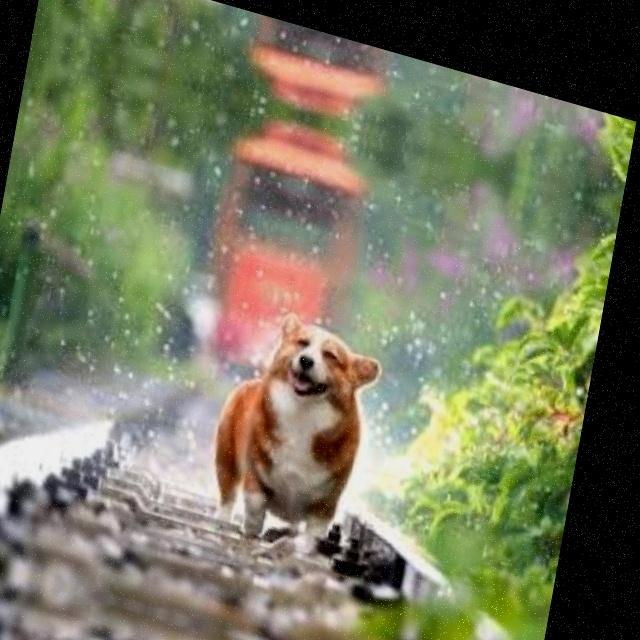dog: (191, 284, 393, 568)
